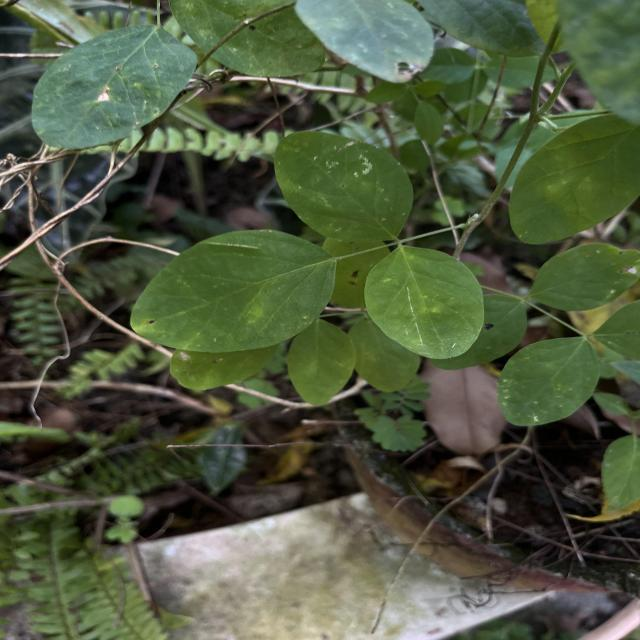Clitoria ternatea: (128, 228, 338, 354), (272, 130, 415, 246), (364, 244, 486, 360), (494, 337, 600, 428)
